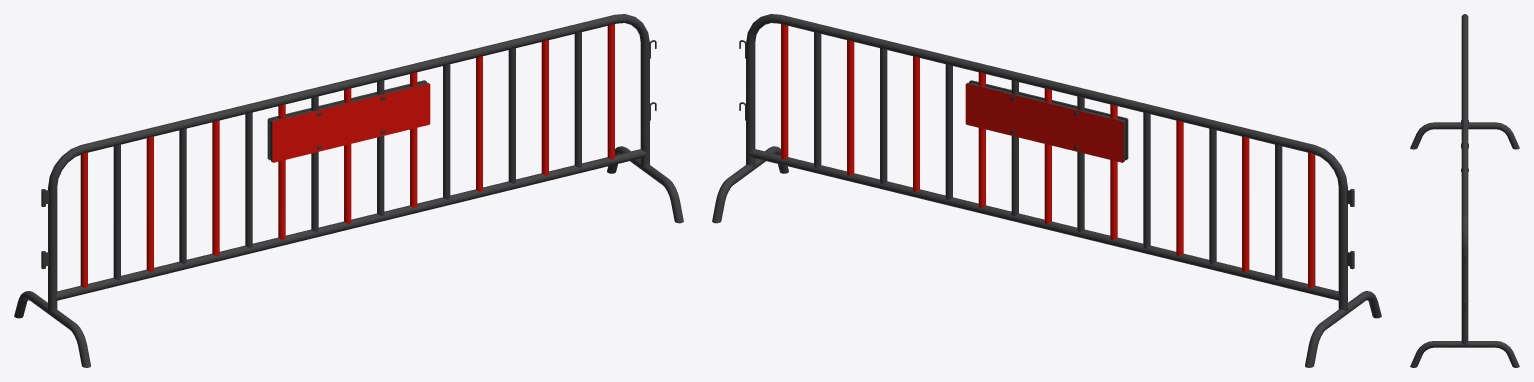
File: MetallicBarrier.fbx
3 renders of one model, left to right at view 1: azimuth 30°, elevation 25°; view 2: azimuth 150°, elevation 25°; view 3: azimuth 270°, elevation 25°, orthographic. The views are drawn at different scales.
Parts seen in each view (by area): view 1: METAL_BARRIER; view 2: METAL_BARRIER; view 3: METAL_BARRIER.
Part boxes in pixels (<box>): METAL_BARRIER: <box>14,14,683,367</box>; METAL_BARRIER: <box>712,14,1381,367</box>; METAL_BARRIER: <box>1410,14,1519,367</box>.
Bounding box in the file's own units: 311 × 91.24 × 63.71.
